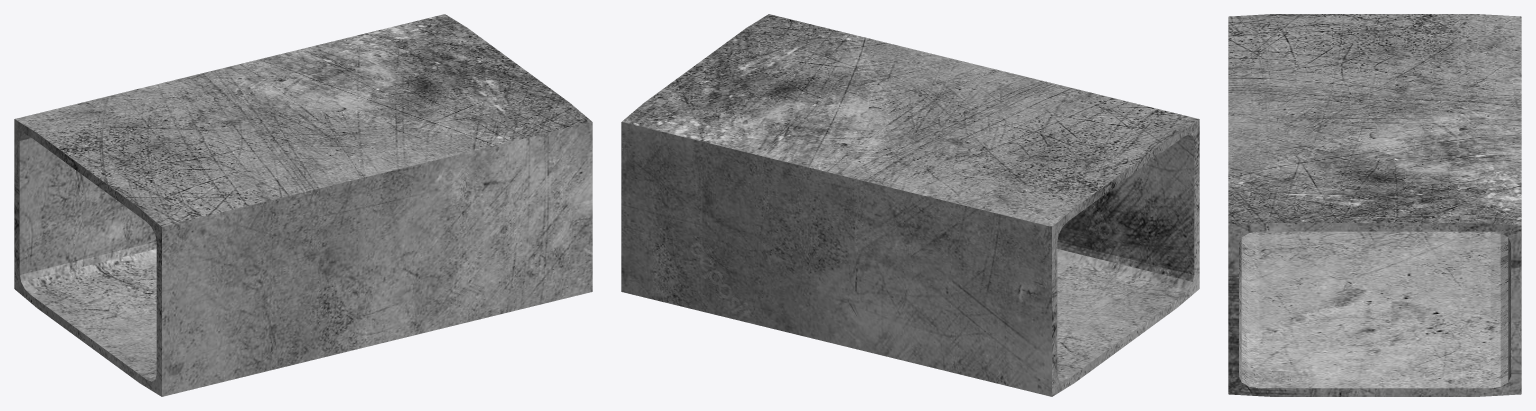
Rendered from vent_short.fbx.
3 renders of one model, left to right at view 1: azimuth 30°, elevation 25°; view 2: azimuth 150°, elevation 25°; view 3: azimuth 270°, elevation 25°, orthographic.
Visible parts, largest first — view 1: Cube.006; view 2: Cube.006; view 3: Cube.006.
Boxes of the visible parts, bbox=[...] form: Cube.006: bbox=[14, 14, 592, 396]; Cube.006: bbox=[621, 14, 1199, 396]; Cube.006: bbox=[1228, 14, 1521, 396].
Bounding box in the file's own units: 4000 × 2371 × 1554.
